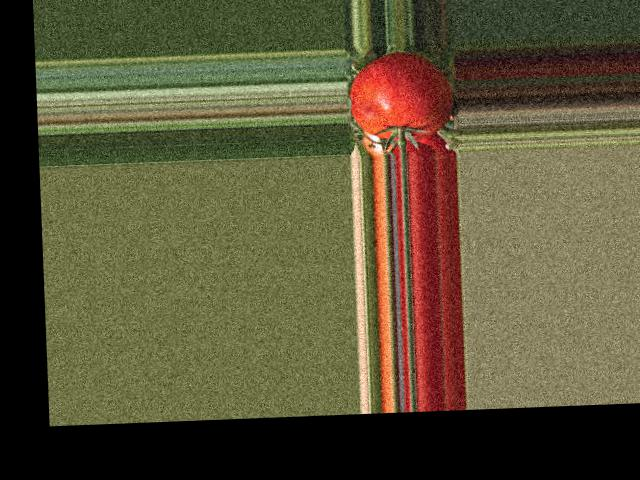tomato: (348, 51, 453, 142)
